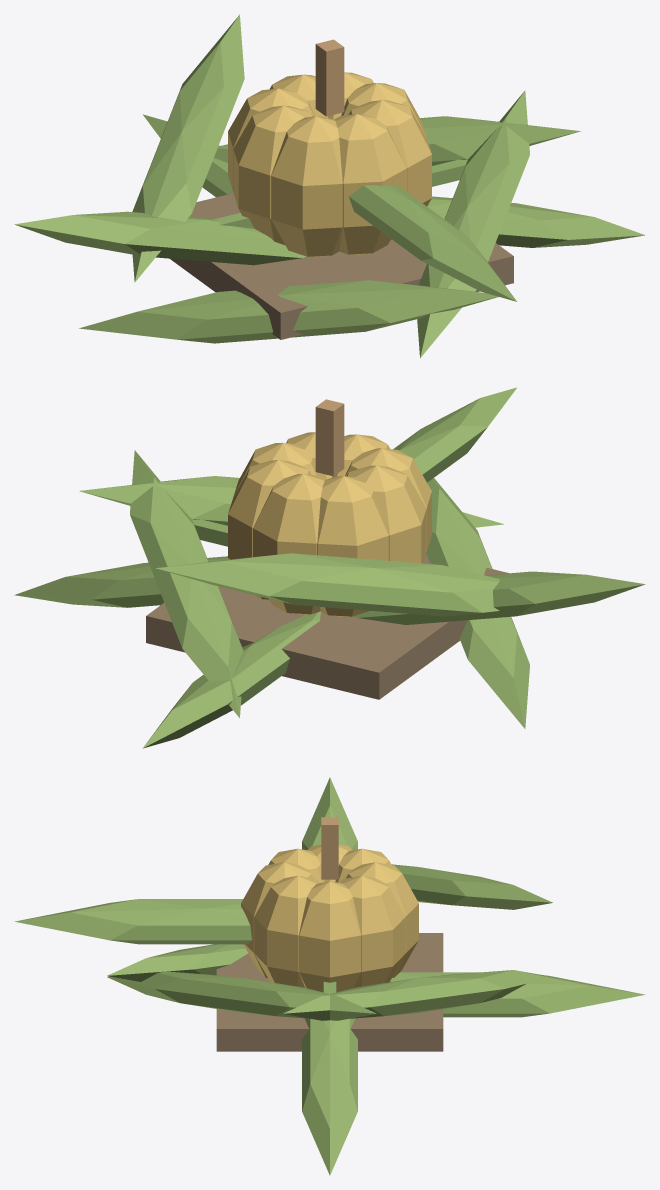
File: cozy-farm-and-homestead-pumpkin-mature-983e0908__19383.glb
3 renders of one model, top to bottom at view 1: azimuth 30°, elevation 25°; view 2: azimuth 150°, elevation 25°; view 3: azimuth 270°, elevation 25°, orthographic. The views are drawn at different scales.
Parts seen in each view (by area): view 1: pumpkin-mature; view 2: pumpkin-mature; view 3: pumpkin-mature.
Boxes of the visible parts, x1,y1,x2,y2 form: pumpkin-mature: [14, 14, 644, 358]; pumpkin-mature: [14, 387, 645, 748]; pumpkin-mature: [15, 777, 645, 1175].
Bounding box in the file's own units: 1.22 × 0.4923 × 1.25.
